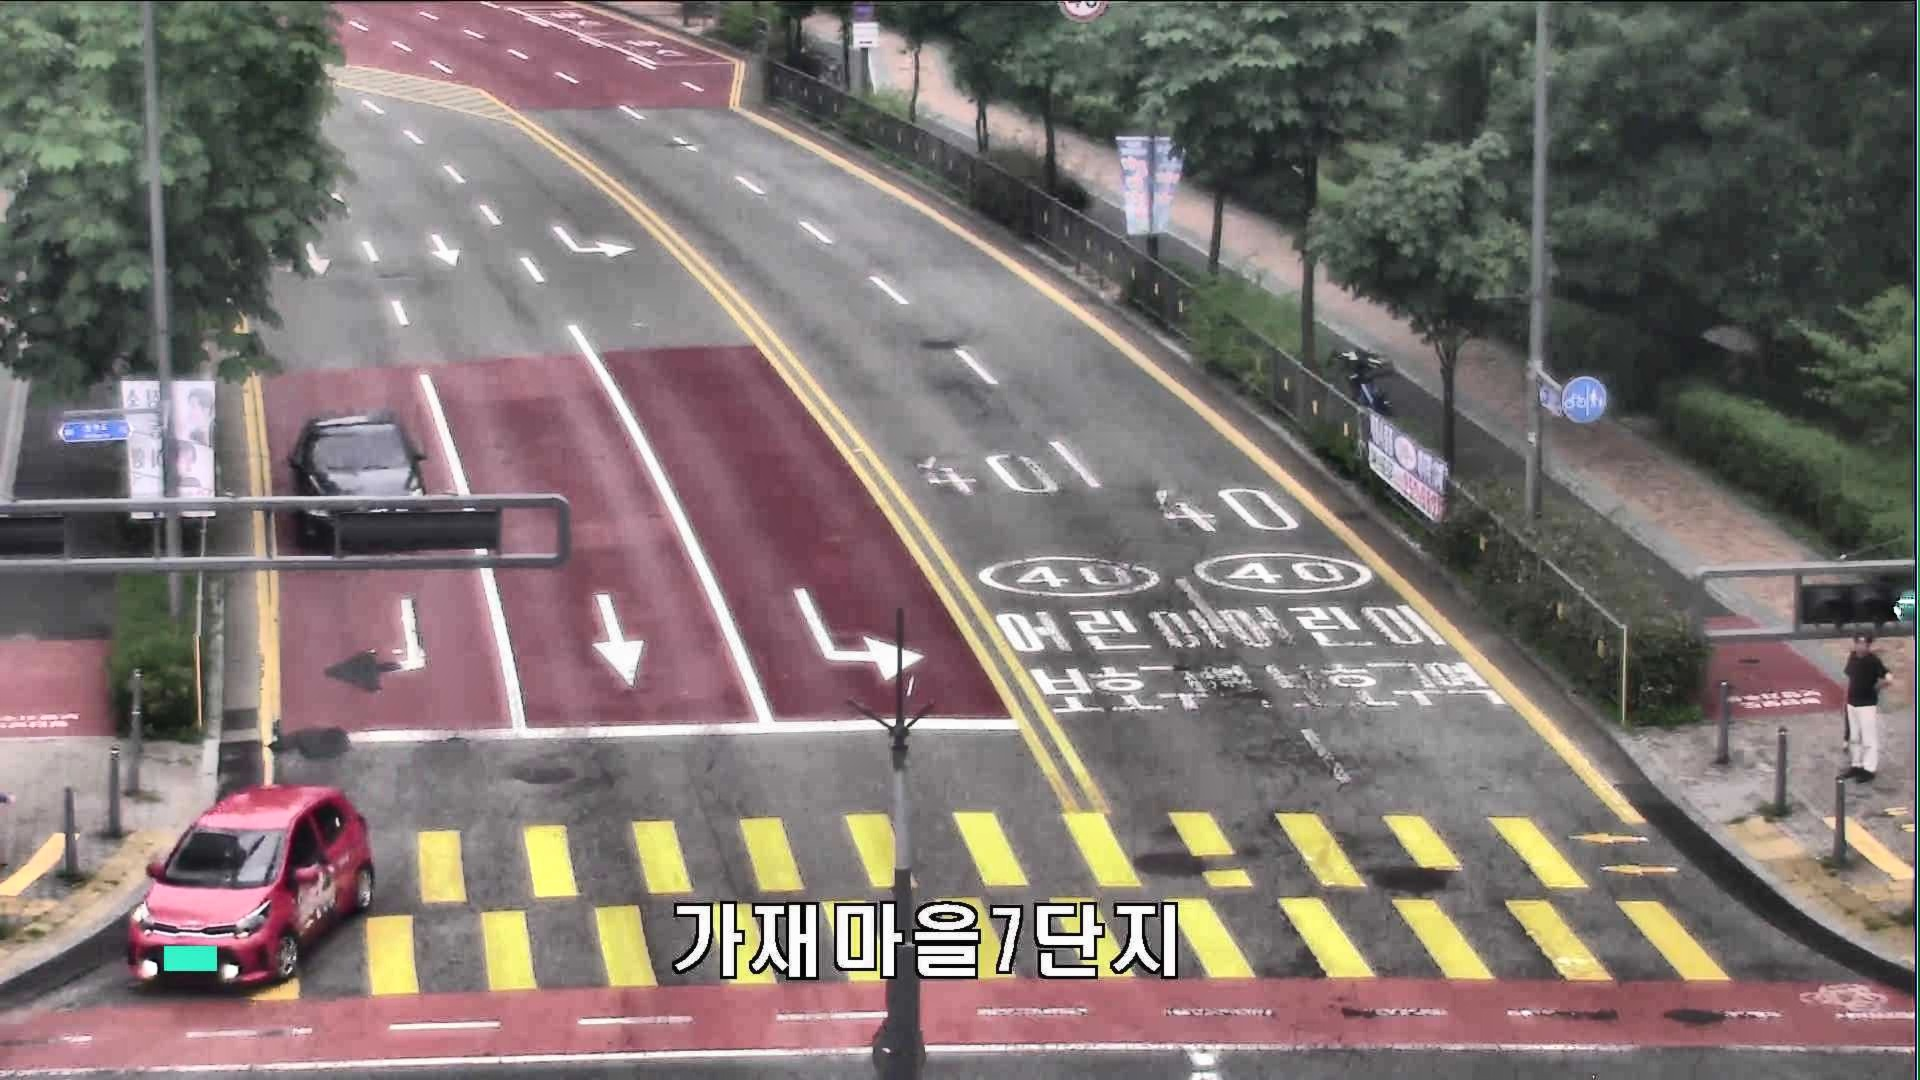sidewalk: (1844, 634, 1894, 782)
